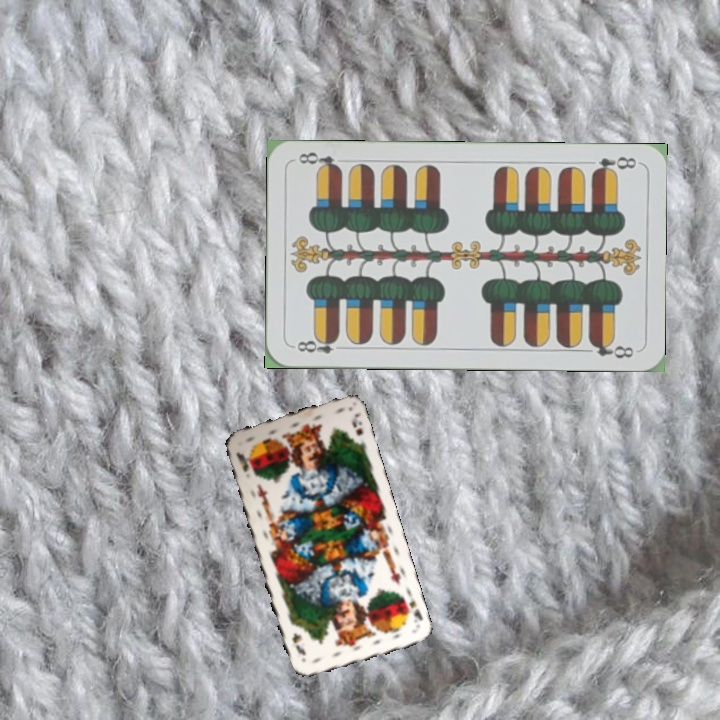E8: (290, 333, 349, 356), (587, 152, 639, 177)
SK: (398, 588, 425, 623), (232, 448, 252, 474)
